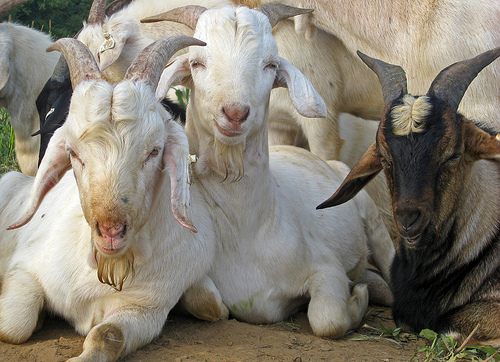goat: (137, 1, 394, 340), (1, 37, 208, 362), (313, 47, 500, 348)
